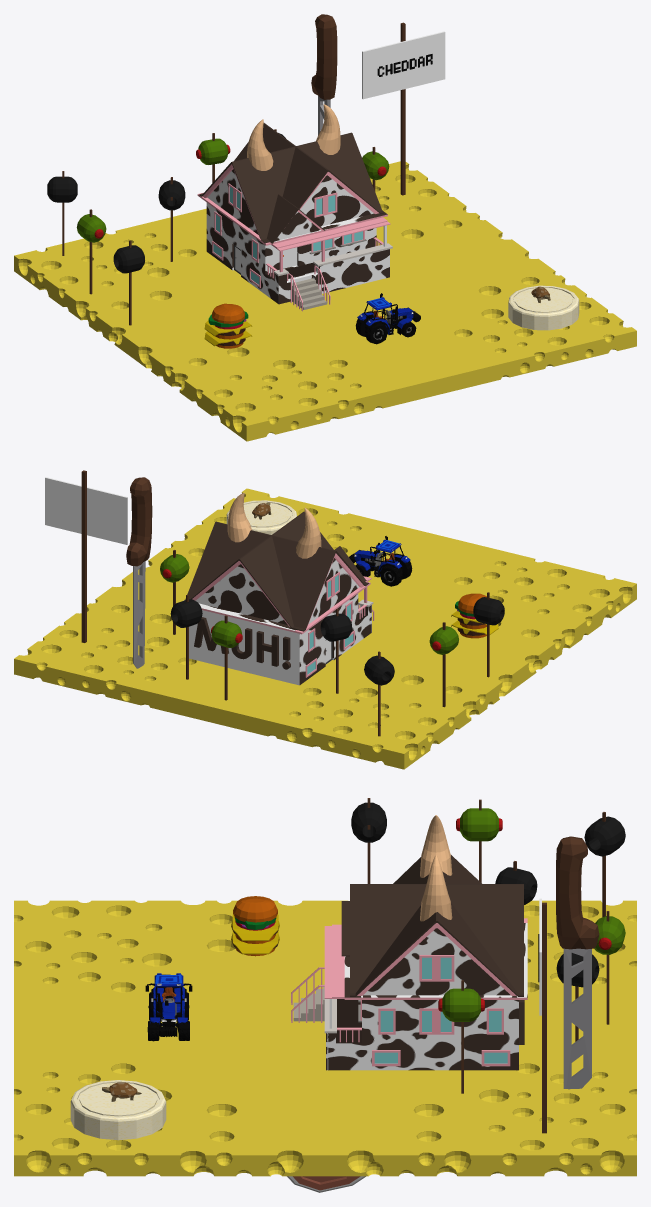
The picture shows the model from 3 angles, top to bottom: view 1: azimuth 30°, elevation 25°; view 2: azimuth 150°, elevation 25°; view 3: azimuth 270°, elevation 25°; orthographic projection. The views are drawn at different scales.
Parts seen in each view (by area): view 1: Cube.022, Cube.1242, Cube.023, Cylinder.016, Cube.024, VEHICLES_TRACTOR, OBJRANDOM_HAMBURGER, Sphere.016, Sphere.017, Sphere.018, Sphere.020, Sphere.022 (+1 smaller); view 2: Cube.022, Cube.1242, Cube.023, Cube.024, VEHICLES_TRACTOR, Cylinder.016, OBJRANDOM_HAMBURGER, Sphere.022, Sphere.017, Sphere.020, Sphere.021, Sphere.018 (+2 smaller); view 3: Cube.022, Cube.1242, Cube.024, Cylinder.016, VEHICLES_TRACTOR, OBJRANDOM_HAMBURGER, Cube.023, Sphere.019, Sphere.016, Sphere.018, Sphere.017, Sphere.022 (+3 smaller).
Boxes of the visible parts, box(x1,y1,x2,y2) form: Cube.022: box(14, 161, 636, 441); Cube.1242: box(197, 104, 392, 311); Cube.023: box(362, 22, 445, 195); Cylinder.016: box(508, 285, 579, 330); Cube.024: box(311, 14, 337, 135); VEHICLES_TRACTOR: box(355, 293, 420, 344); OBJRANDOM_HAMBURGER: box(204, 303, 252, 348); Sphere.016: box(47, 171, 77, 255); Sphere.017: box(113, 240, 144, 325); Sphere.018: box(76, 209, 106, 294); Sphere.020: box(158, 177, 185, 261); Sphere.022: box(196, 133, 230, 182); Cube.022: box(14, 488, 636, 769); Cube.1242: box(183, 493, 374, 685); Cube.023: box(45, 470, 127, 642); Cube.024: box(126, 477, 152, 668); VEHICLES_TRACTOR: box(349, 536, 412, 586); Cylinder.016: box(226, 500, 296, 534); OBJRANDOM_HAMBURGER: box(451, 593, 498, 638); Sphere.022: box(211, 615, 242, 700); Sphere.017: box(473, 592, 504, 677); Sphere.020: box(320, 609, 352, 693); Sphere.021: box(170, 594, 202, 679); Sphere.018: box(429, 622, 458, 707); Cube.022: box(14, 900, 636, 1176); Cube.1242: box(291, 815, 527, 1070); Cube.024: box(556, 836, 599, 1089); Cylinder.016: box(70, 1080, 166, 1140); VEHICLES_TRACTOR: box(145, 973, 192, 1041); OBJRANDOM_HAMBURGER: box(231, 896, 279, 956); Cube.023: box(538, 898, 546, 1133); Sphere.019: box(438, 980, 484, 1093); Sphere.016: box(584, 812, 625, 917); Sphere.018: box(456, 799, 502, 882); Sphere.017: box(351, 798, 386, 883); Sphere.022: box(594, 911, 625, 1024).
Bounding box in the file's own units: 3917 × 2723 × 4000.
46 materials, 3 textured.
